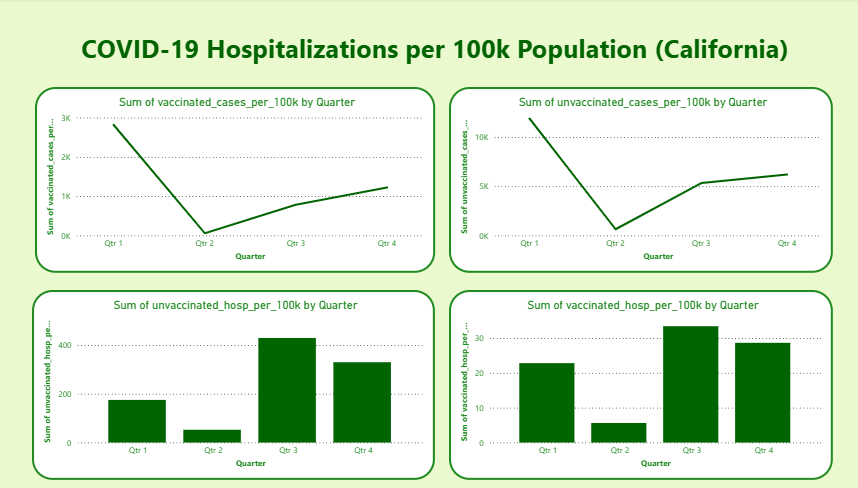

What the dashboard file says about the page in this screenshot:
{"tool":"powerbi","page":{"name":"Page 2","canvas":[1280,720],"ordinal":1},"visuals":[{"type":"textbox","box":[10.3,42.6,1269.6,70.5],"z":0},{"type":"lineChart","fields":{"Category":["COVID_19_cleaned.date.Variation.Date Hierarchy.Quarter"],"Y":["Sum(COVID_19_cleaned.vaccinated_cases_per_100k)"]},"box":[57.3,130.8,587.8,273.3],"z":1000},{"type":"lineChart","fields":{"Category":["COVID_19_cleaned.date.Variation.Date Hierarchy.Quarter"],"Y":["Sum(COVID_19_cleaned.unvaccinated_cases_per_100k)"]},"box":[665.6,130.8,564.2,273.3],"z":2000},{"type":"columnChart","fields":{"Category":["COVID_19_cleaned.date.Variation.Date Hierarchy.Quarter"],"Y":["Sum(COVID_19_cleaned.unvaccinated_hosp_per_100k)"]},"box":[52.9,429.1,592.2,279.2],"z":3000},{"type":"columnChart","fields":{"Category":["COVID_19_cleaned.date.Variation.Date Hierarchy.Quarter"],"Y":["Sum(COVID_19_cleaned.vaccinated_hosp_per_100k)"]},"box":[665.6,429.1,564.2,279.2],"z":4000}]}

Visuals, with their boxes in screenshot pixels (x1, y1, x2, y2), scaled from the page's 1280x720 canvas onto the 858x488 screenshot:
textbox: left=7, top=29, right=857, bottom=77
lineChart - COVID_19_cleaned.date.Variation.Date Hierarchy.Quarter x Sum(COVID_19_cleaned.vaccinated_cases_per_100k): left=38, top=89, right=432, bottom=274
lineChart - COVID_19_cleaned.date.Variation.Date Hierarchy.Quarter x Sum(COVID_19_cleaned.unvaccinated_cases_per_100k): left=446, top=89, right=824, bottom=274
columnChart - COVID_19_cleaned.date.Variation.Date Hierarchy.Quarter x Sum(COVID_19_cleaned.unvaccinated_hosp_per_100k): left=35, top=291, right=432, bottom=480
columnChart - COVID_19_cleaned.date.Variation.Date Hierarchy.Quarter x Sum(COVID_19_cleaned.vaccinated_hosp_per_100k): left=446, top=291, right=824, bottom=480
